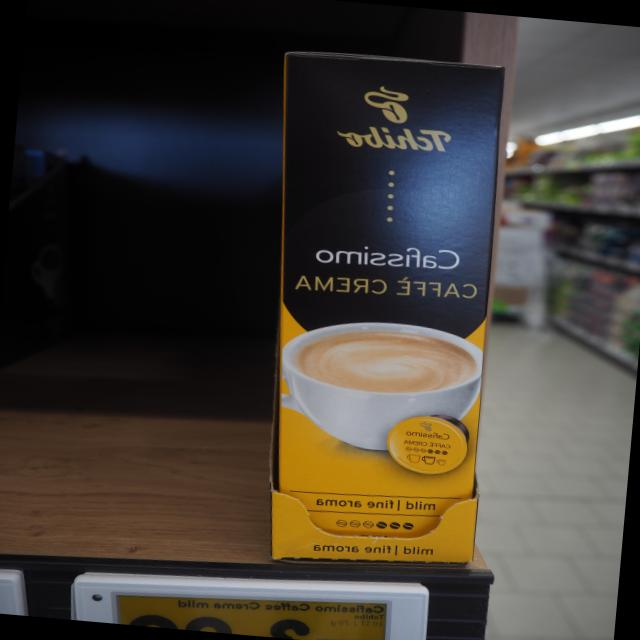Simo CCMild bigpack: (266, 47, 504, 569)
